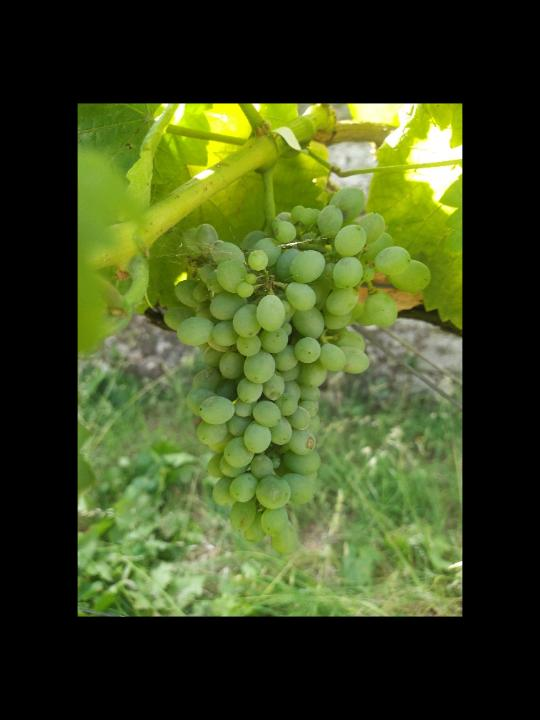grape: (165, 185, 436, 559)
